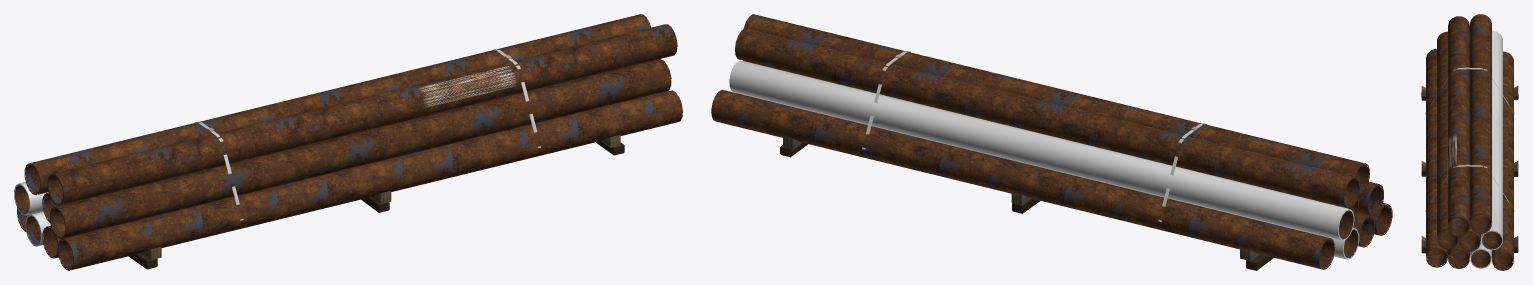
The model's file is pipe_stack.glb.
The picture shows the model from 3 angles, left to right: view 1: azimuth 30°, elevation 25°; view 2: azimuth 150°, elevation 25°; view 3: azimuth 270°, elevation 25°; orthographic projection. The views are drawn at different scales.
Parts seen in each view (by area): view 1: pipe_stack; view 2: pipe_stack; view 3: pipe_stack.
Boxes of the visible parts, bbox=[...] form: pipe_stack: bbox=[14, 14, 682, 270]; pipe_stack: bbox=[711, 14, 1392, 270]; pipe_stack: bbox=[1421, 14, 1518, 270].
Bounding box in the file's own units: 5.96 × 0.8408 × 1.2.
Materials: 6 (6 with a texture image).
